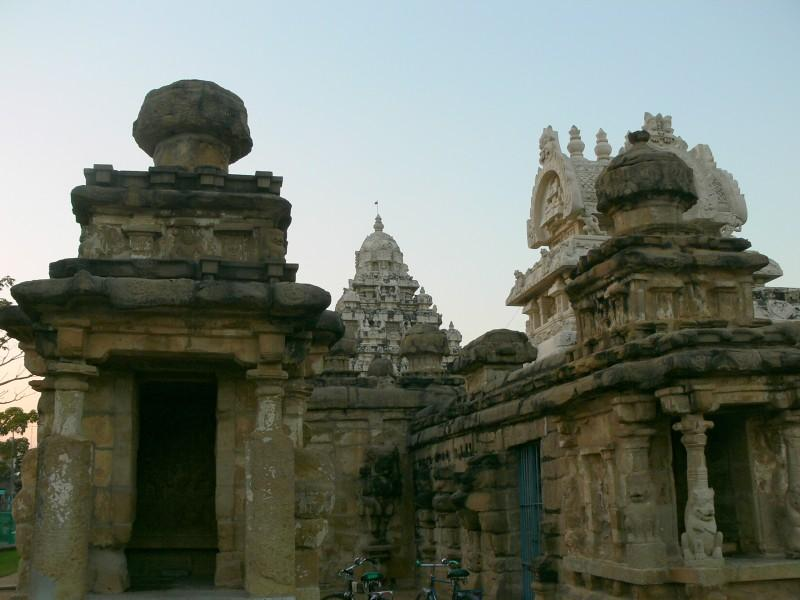temple: (2, 77, 799, 599), (408, 110, 800, 599), (1, 77, 347, 599), (321, 200, 462, 379)
